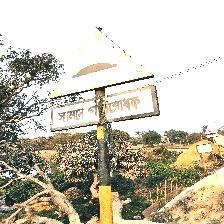Speed-breaker: (48, 26, 159, 130)
